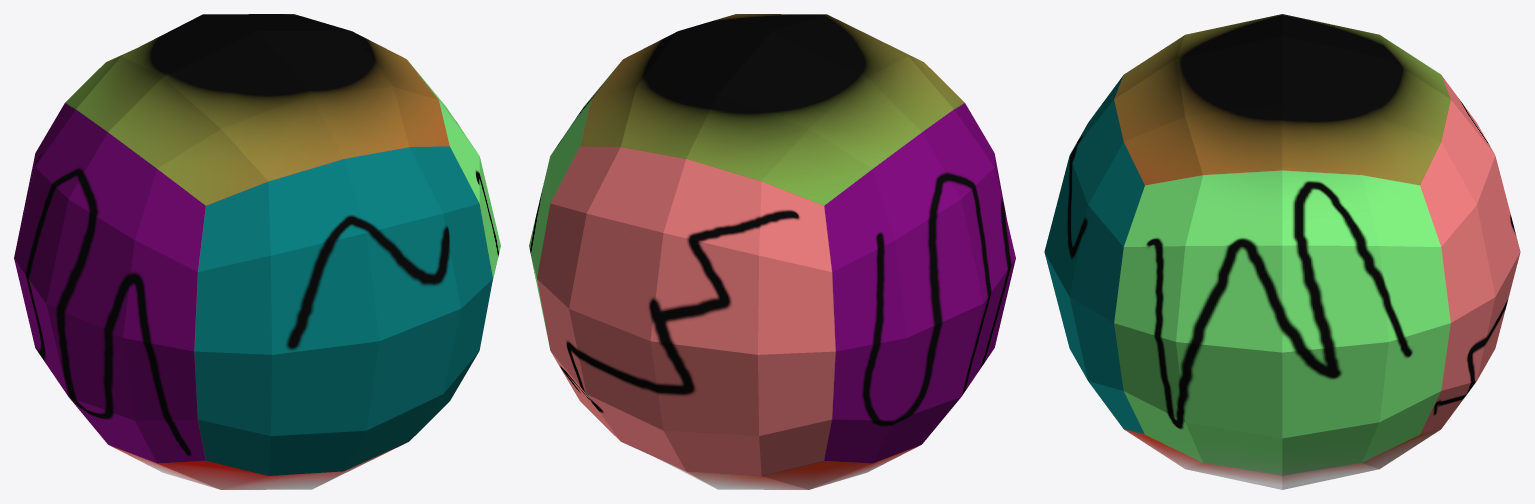
Rendered from simple_sph.obj.
3 renders of one model, left to right at view 1: azimuth 30°, elevation 25°; view 2: azimuth 150°, elevation 25°; view 3: azimuth 270°, elevation 25°, orthographic. The views are drawn at different scales.
Parts seen in each view (by area): view 1: Cube; view 2: Cube; view 3: Cube.
Boxes of the visible parts, box(x1,y1,x2,y2) form: Cube: box(14, 14, 500, 489); Cube: box(529, 14, 1015, 489); Cube: box(1044, 14, 1520, 489).
Bounding box in the file's own units: 2.63 × 2.63 × 2.63.
1 material, 1 textured.
